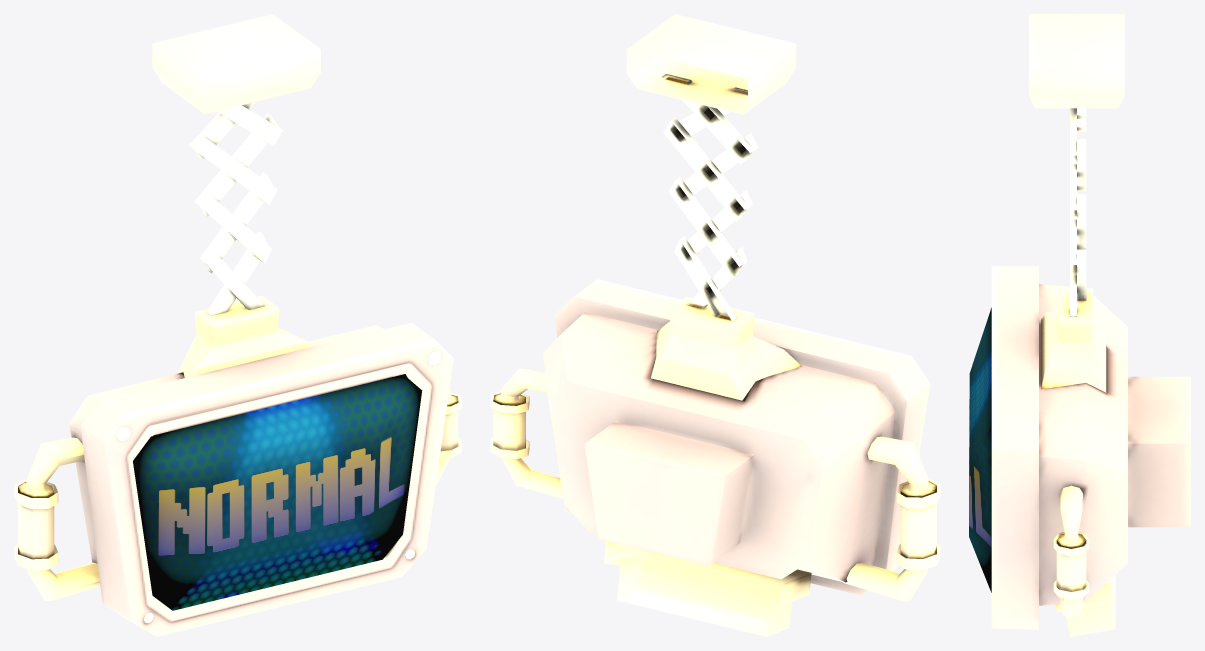
Rendered from ui_TV_Normal.fbx.
3 views of the same model, side by side, from view 1: azimuth 30°, elevation 25°; view 2: azimuth 150°, elevation 25°; view 3: azimuth 270°, elevation 25° (orthographic).
Visible parts, largest first — view 1: ui_TV, ui_TV_Normal_screen; view 2: ui_TV; view 3: ui_TV, ui_TV_Normal_screen.
Part boxes in pixels (left/top/right/bottom): ui_TV: left=14, top=14, right=461, bottom=636; ui_TV_Normal_screen: left=133, top=374, right=422, bottom=610; ui_TV: left=490, top=14, right=940, bottom=636; ui_TV: left=991, top=14, right=1190, bottom=636; ui_TV_Normal_screen: left=969, top=307, right=991, bottom=592.
Size of the model in its own units: 512 by 620 by 223.
